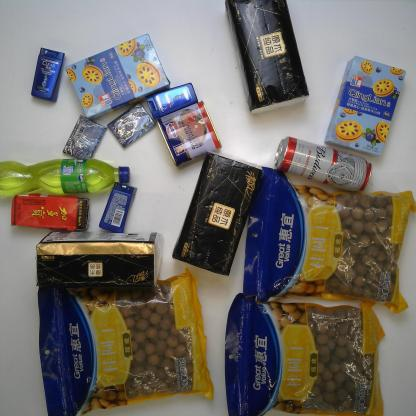Alcohol: (275, 136, 373, 192)
Canned Food: (157, 102, 222, 167)
Dessert: (65, 32, 170, 121), (324, 55, 406, 158)
Dried Food: (35, 268, 216, 414), (239, 163, 413, 313), (222, 292, 386, 412)
Drink: (0, 158, 131, 197), (9, 192, 91, 234)
Gum: (104, 101, 155, 148), (61, 114, 107, 161)
Personal Hygiene: (28, 46, 65, 104), (146, 81, 198, 120), (98, 182, 136, 233)
Tissue: (170, 151, 263, 275), (224, 1, 310, 115), (34, 232, 163, 290)
